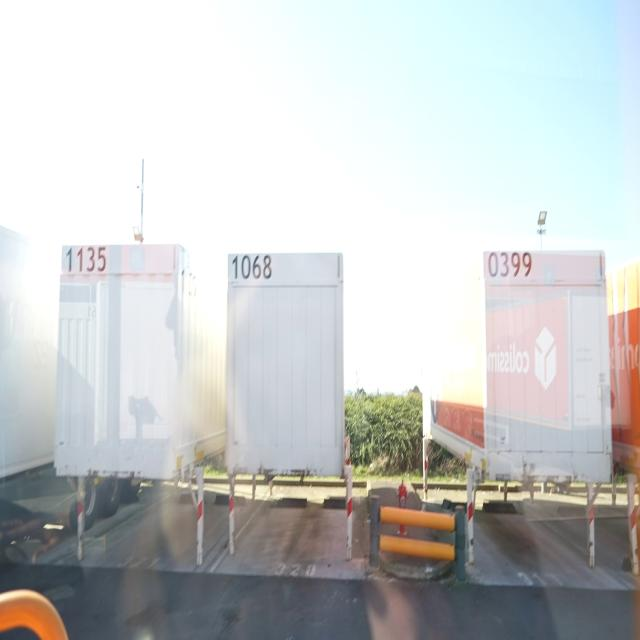Code: (486, 245, 534, 282), (63, 240, 108, 278), (230, 250, 274, 285)
